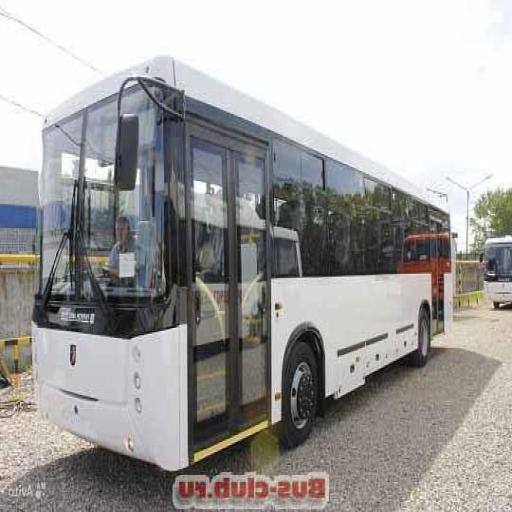onibus: (31, 46, 459, 472)
